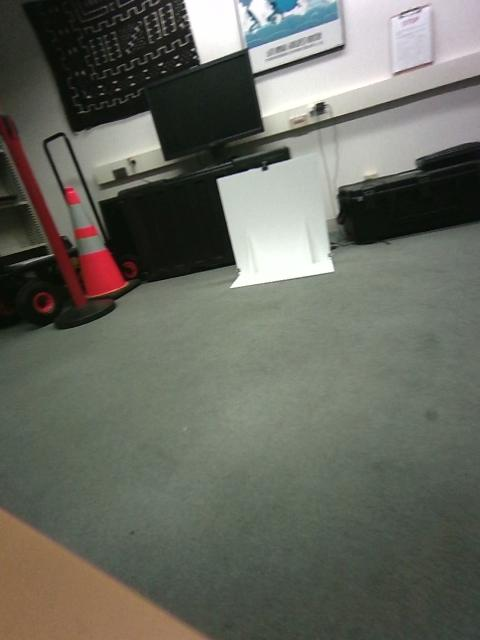block: (429, 333, 473, 418)
